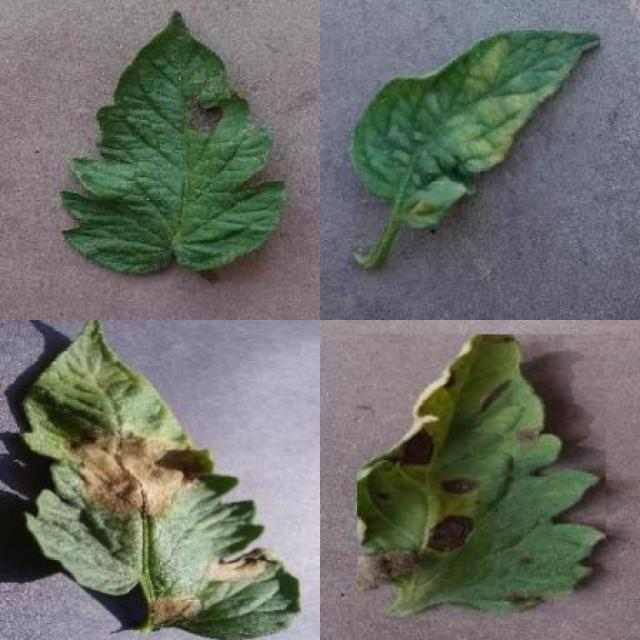Early Blight: (357, 334, 606, 620), (60, 9, 289, 277)
Late Blight: (18, 320, 302, 640)
Leaf Mold: (354, 30, 600, 229)
